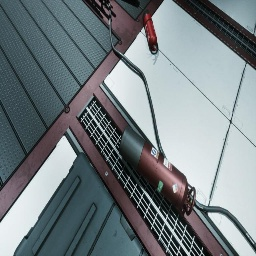FireExtinguisher ]: (142, 9, 158, 52)
NitrogenTank ,: (119, 125, 196, 216)
